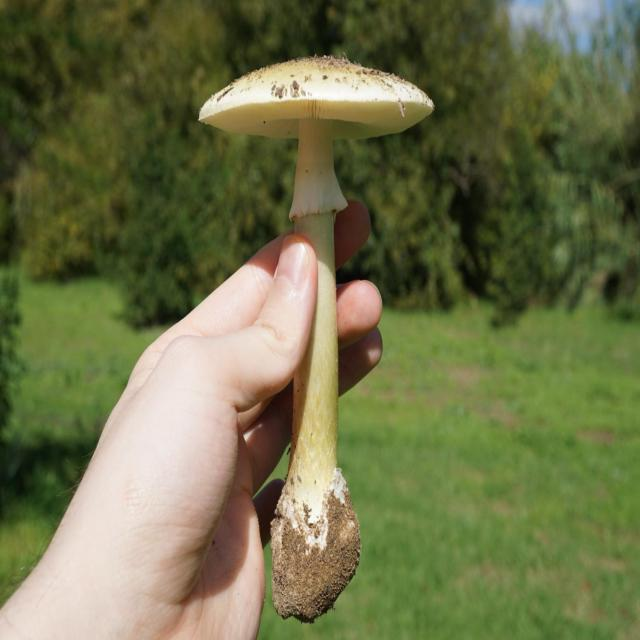death-cap: (198, 57, 434, 626)
